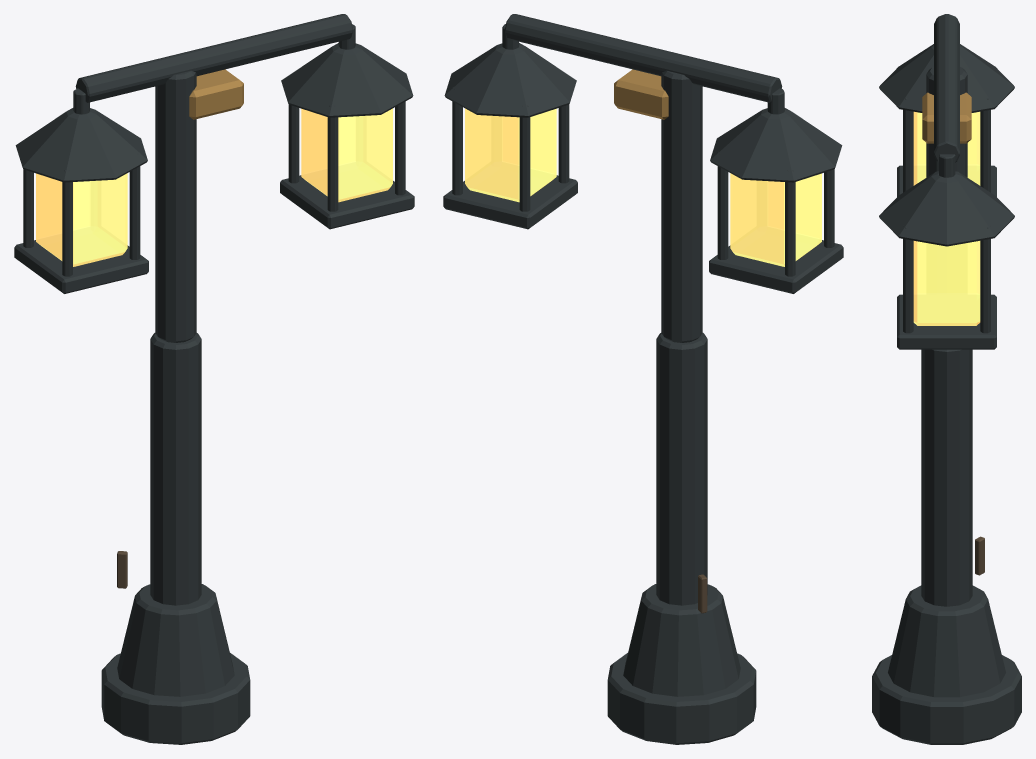
The model's file is runtime.glb.
3 renders of one model, left to right at view 1: azimuth 30°, elevation 25°; view 2: azimuth 150°, elevation 25°; view 3: azimuth 270°, elevation 25°, orthographic.
Visible parts, largest first — view 1: eiffel-historic-lamp-v07_nocol; view 2: eiffel-historic-lamp-v07_nocol; view 3: eiffel-historic-lamp-v07_nocol.
Boxes of the visible parts, left/top/right/bottom form: eiffel-historic-lamp-v07_nocol: left=14, top=14, right=414, bottom=744; eiffel-historic-lamp-v07_nocol: left=443, top=14, right=843, bottom=744; eiffel-historic-lamp-v07_nocol: left=872, top=14, right=1021, bottom=744.
Size of the model in its own units: 2.24 by 3.68 by 0.76.
